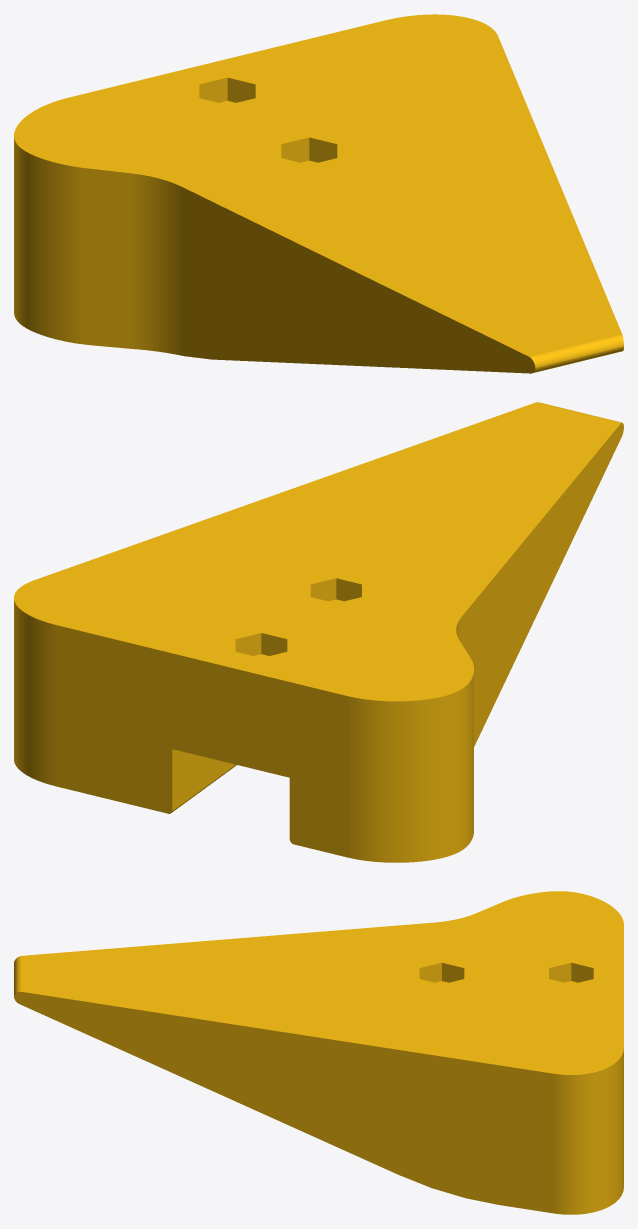
File: robotiq_finger.gltf
3 views of the same model, one above another, from view 1: azimuth 30°, elevation 25°; view 2: azimuth 150°, elevation 25°; view 3: azimuth 270°, elevation 25° (orthographic). The views are drawn at different scales.
Parts seen in each view (by area): view 1: robotiq_finger_left; view 2: robotiq_finger_left; view 3: robotiq_finger_left.
Boxes of the visible parts, box(x1,y1,x2,y2) form: robotiq_finger_left: box(14, 14, 623, 373); robotiq_finger_left: box(14, 402, 623, 862); robotiq_finger_left: box(14, 891, 623, 1214).
Size of the model in its own units: 0.0538 by 0.0191 by 0.0754.
